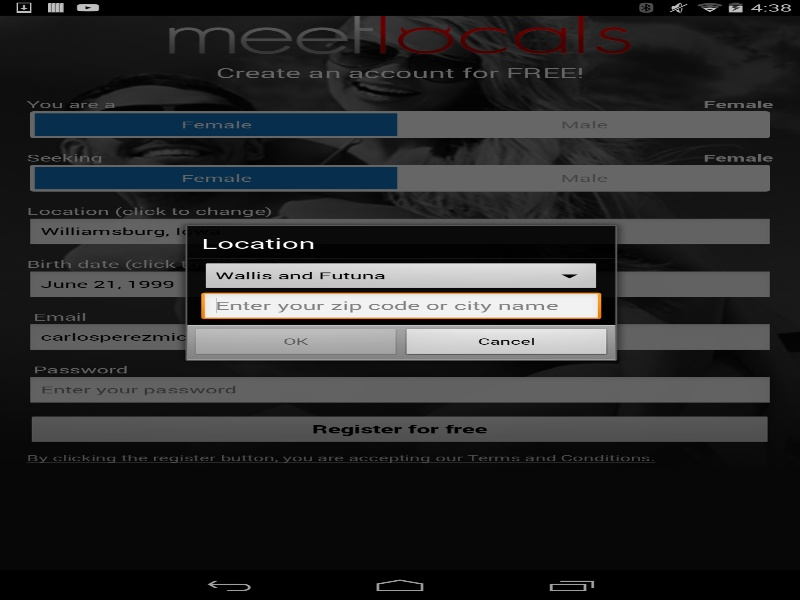Button: (190, 327, 401, 357), (401, 327, 612, 357)
Input: (201, 292, 601, 322)
